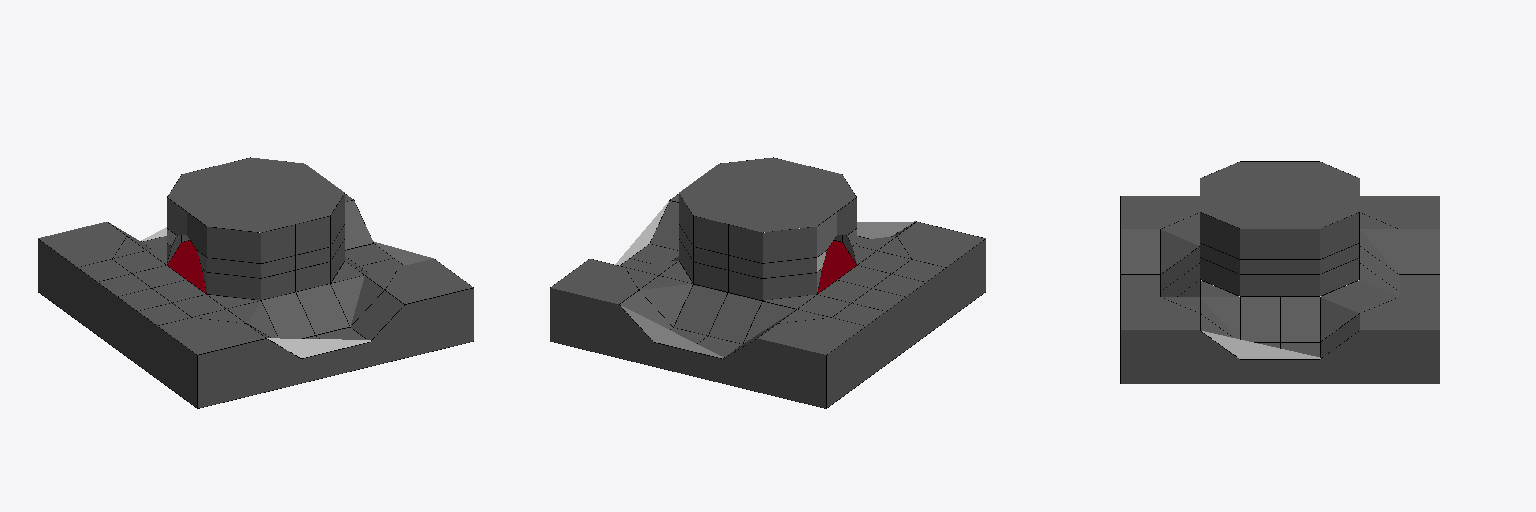
The picture shows the model from 3 angles: view 1: azimuth 30°, elevation 25°; view 2: azimuth 150°, elevation 25°; view 3: azimuth 270°, elevation 25°; orthographic projection.
Visible parts, largest first — view 1: furnace_Cube.003; view 2: furnace_Cube.003; view 3: furnace_Cube.003.
Boxes of the visible parts, <box> form: furnace_Cube.003: <box>38,157,473,408</box>; furnace_Cube.003: <box>550,157,985,408</box>; furnace_Cube.003: <box>1120,161,1439,383</box>.
Size of the model in its own units: 2 by 0.8424 by 2.
1 materials, 1 textured.